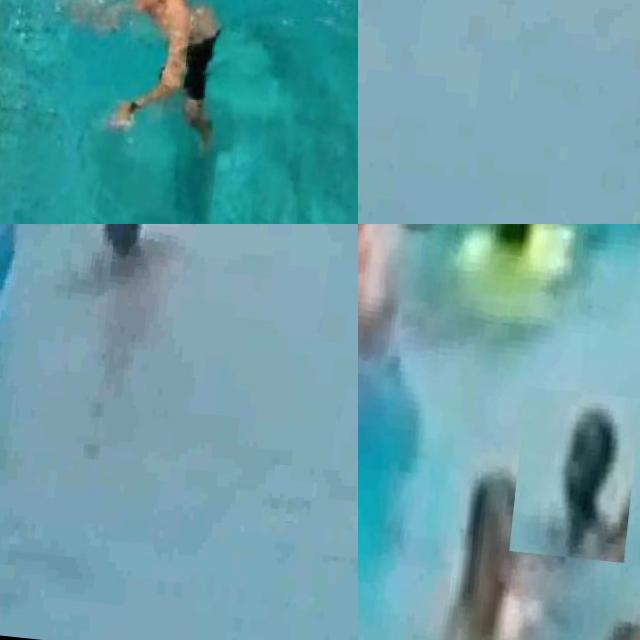drowning: (37, 224, 213, 411), (508, 386, 640, 563)
swimming: (60, 0, 237, 187), (416, 463, 552, 640), (440, 224, 599, 358), (358, 224, 432, 386)
